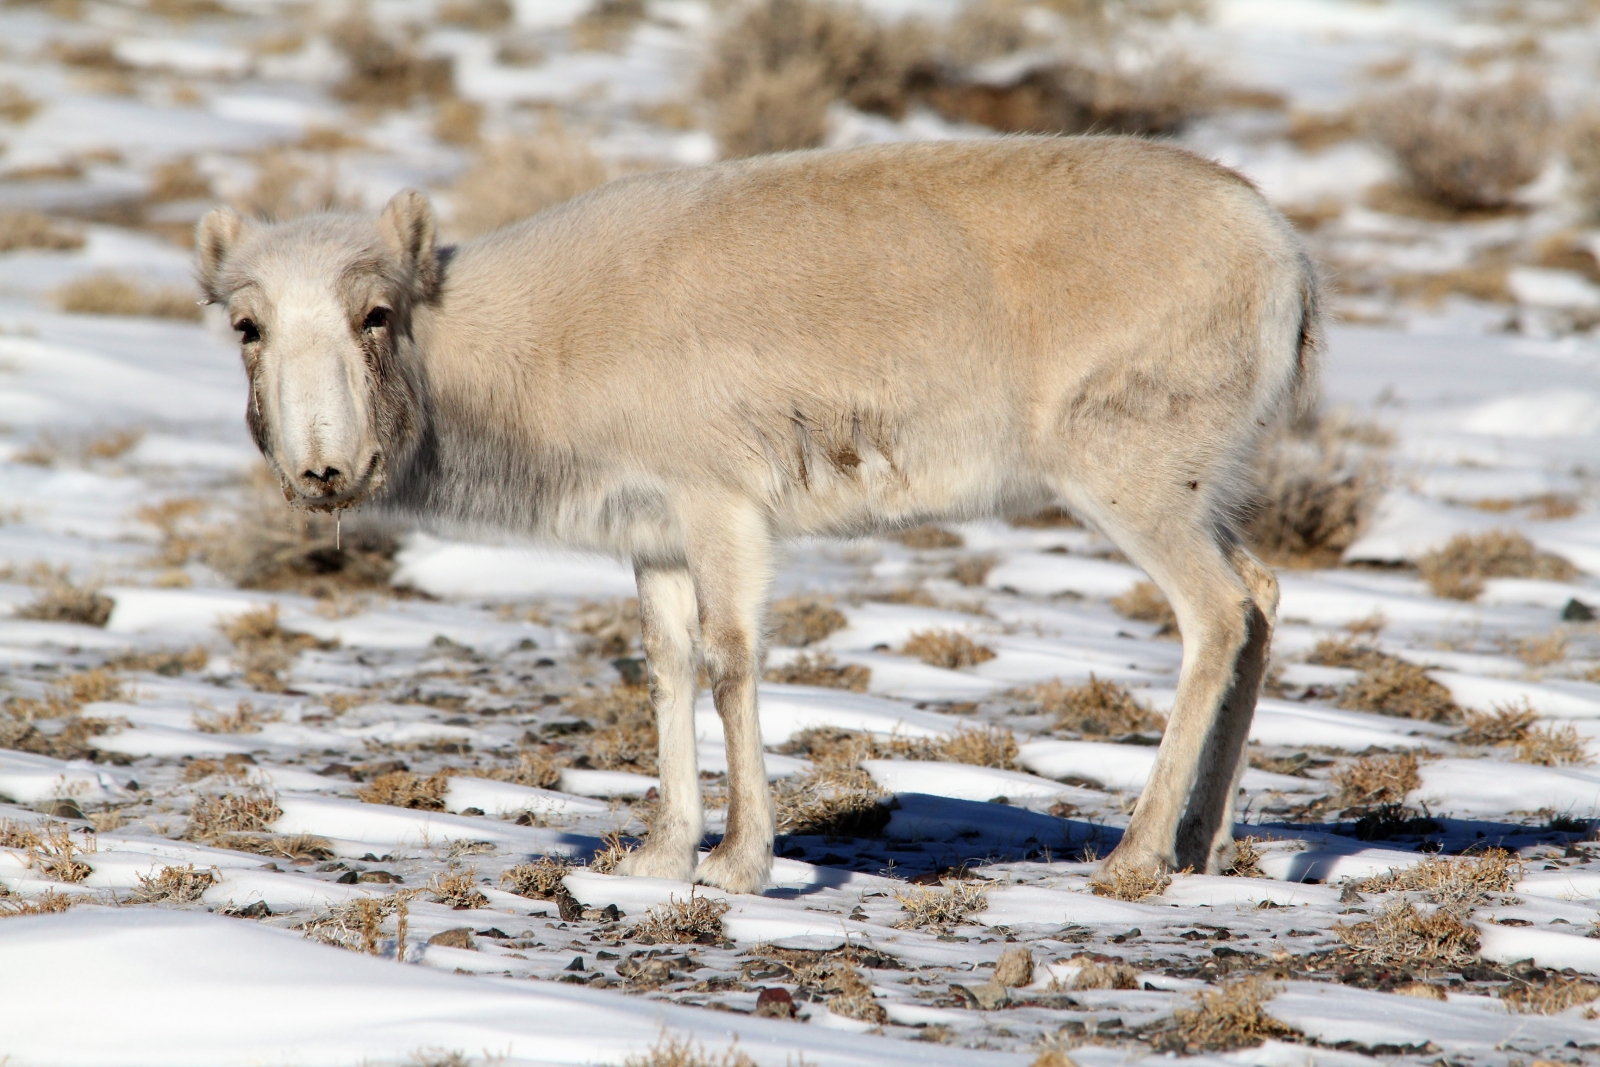saiga: (187, 124, 1320, 926)
